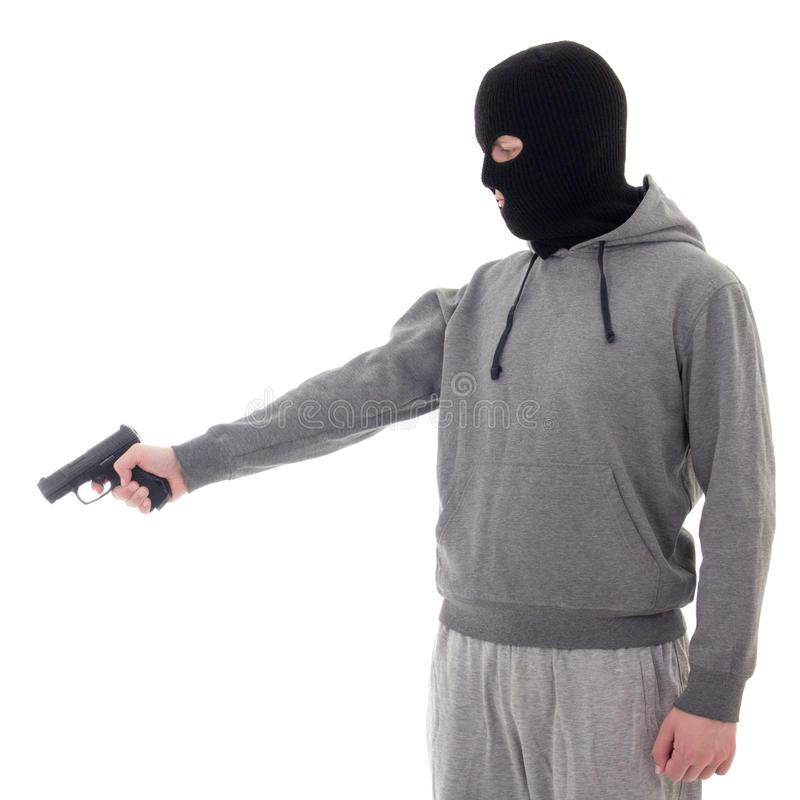criminal: (34, 37, 780, 800)
weapon: (36, 415, 174, 518)
